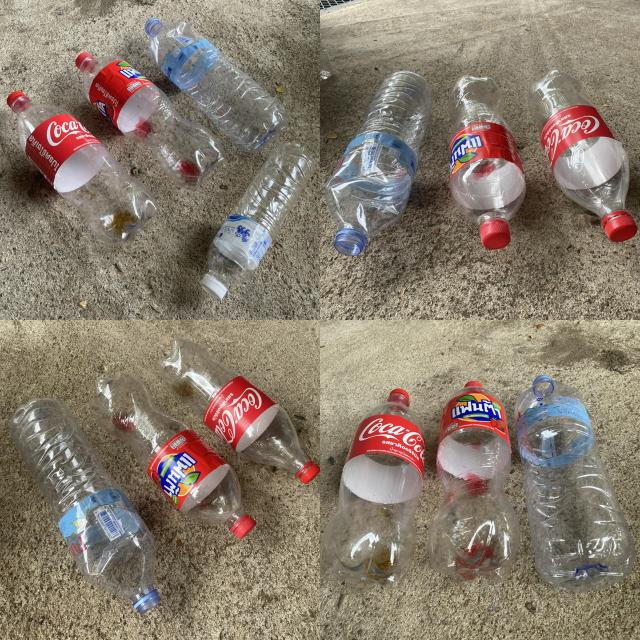plastik: (10, 399, 160, 613), (90, 371, 255, 538), (515, 375, 635, 592), (159, 339, 320, 484), (8, 91, 158, 246), (320, 389, 424, 592), (76, 52, 225, 189), (325, 71, 434, 256), (145, 18, 289, 152), (528, 70, 638, 242), (429, 381, 519, 584), (200, 142, 315, 298), (449, 76, 526, 249)
